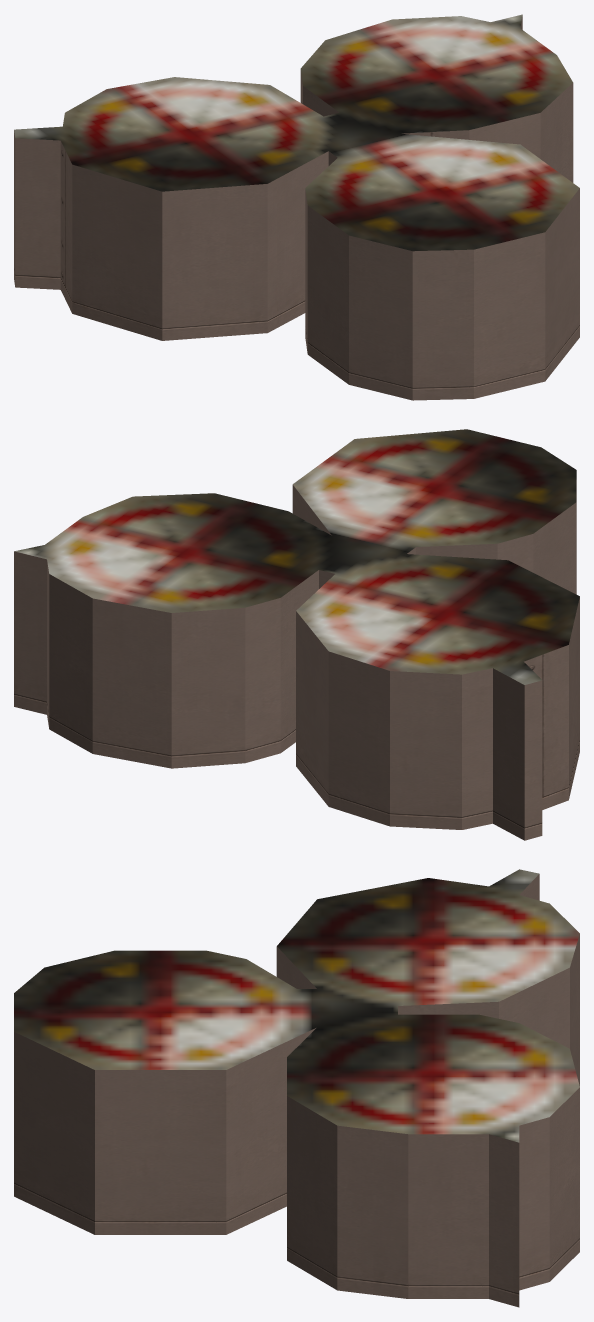
The model's file is fuel_tank_medium_34.glb.
The picture shows the model from 3 angles, top to bottom: view 1: azimuth 30°, elevation 25°; view 2: azimuth 150°, elevation 25°; view 3: azimuth 270°, elevation 25°; orthographic projection. The views are drawn at different scales.
Parts seen in each view (by area): view 1: buildings/saxarba/fuel_tanks/fuel_tank_medium_34; view 2: buildings/saxarba/fuel_tanks/fuel_tank_medium_34; view 3: buildings/saxarba/fuel_tanks/fuel_tank_medium_34.
Boxes of the visible parts, left/top/right/bottom form: buildings/saxarba/fuel_tanks/fuel_tank_medium_34: left=14, top=14, right=579, bottom=400; buildings/saxarba/fuel_tanks/fuel_tank_medium_34: left=14, top=429, right=579, bottom=840; buildings/saxarba/fuel_tanks/fuel_tank_medium_34: left=14, top=869, right=579, bottom=1307.
Size of the model in its own units: 64 by 18 by 56.
